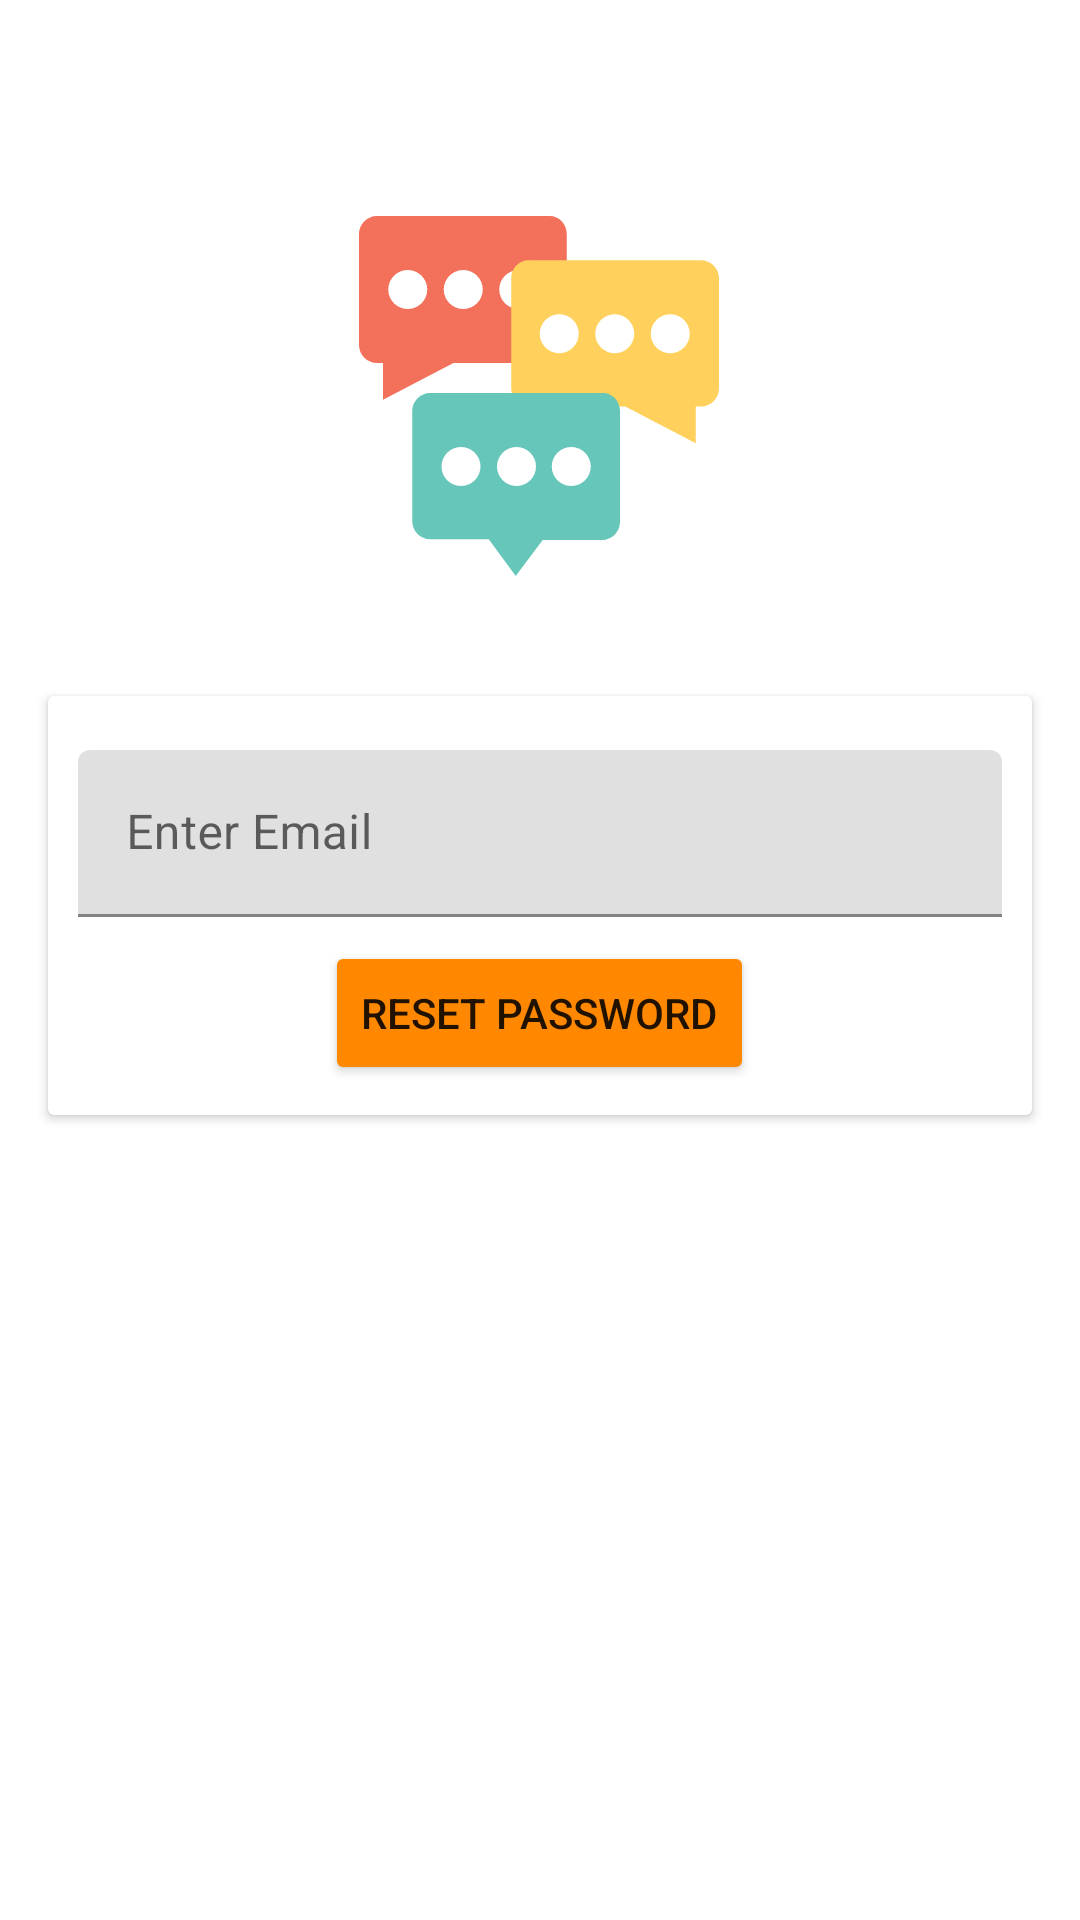

Named icons in this screenshot (1080 × 1920) and their centers, (x=x, y=y):
chat: (x=539, y=396)
